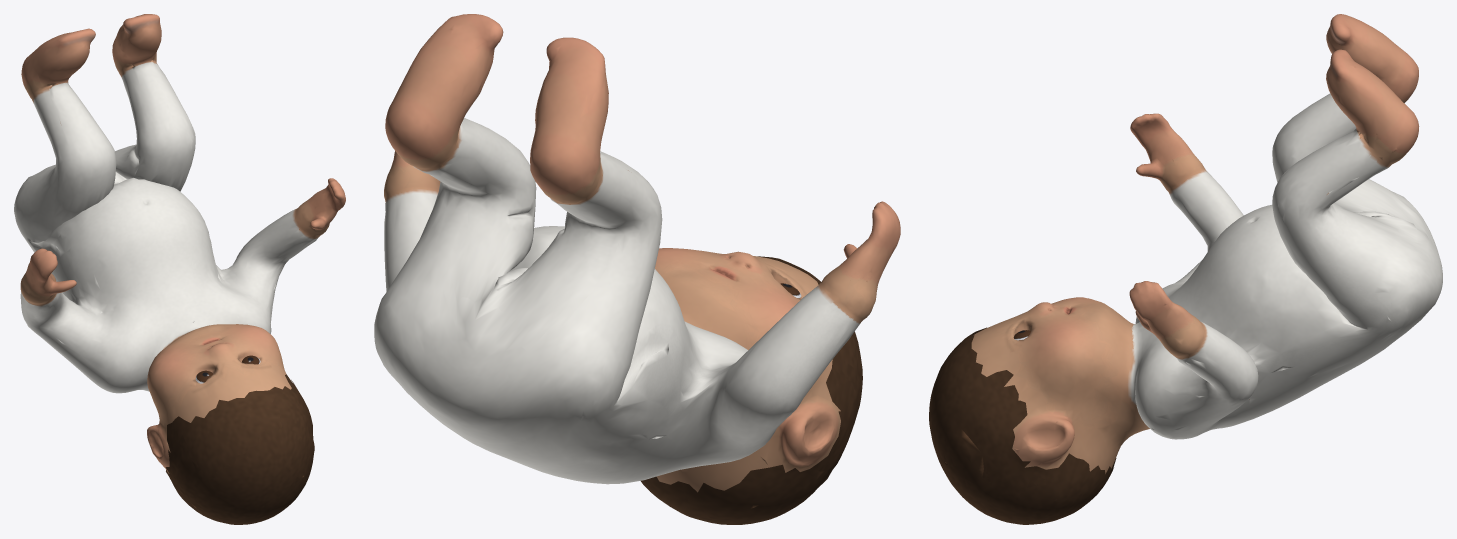
File: ely_bebe_assis.obj
The picture shows the model from 3 angles, left to right: view 1: azimuth 30°, elevation 25°; view 2: azimuth 150°, elevation 25°; view 3: azimuth 270°, elevation 25°; orthographic projection. The views are drawn at different scales.
Visible parts, largest first — view 1: ely_bebe_assis_corps, ely_bebe_assis_cheveux; view 2: ely_bebe_assis_corps, ely_bebe_assis_cheveux; view 3: ely_bebe_assis_corps, ely_bebe_assis_cheveux.
Part boxes in pixels (left/top/right/bottom): ely_bebe_assis_corps: left=14, top=14, right=345, bottom=473; ely_bebe_assis_cheveux: left=165, top=374, right=314, bottom=524; ely_bebe_assis_corps: left=374, top=14, right=900, bottom=492; ely_bebe_assis_cheveux: left=641, top=256, right=862, bottom=524; ely_bebe_assis_corps: left=971, top=14, right=1442, bottom=473; ely_bebe_assis_cheveux: left=929, top=327, right=1116, bottom=524.
Bounding box in the file's own units: 0.2753 × 0.3436 × 0.3329.
Materials: 3 (3 with a texture image).
